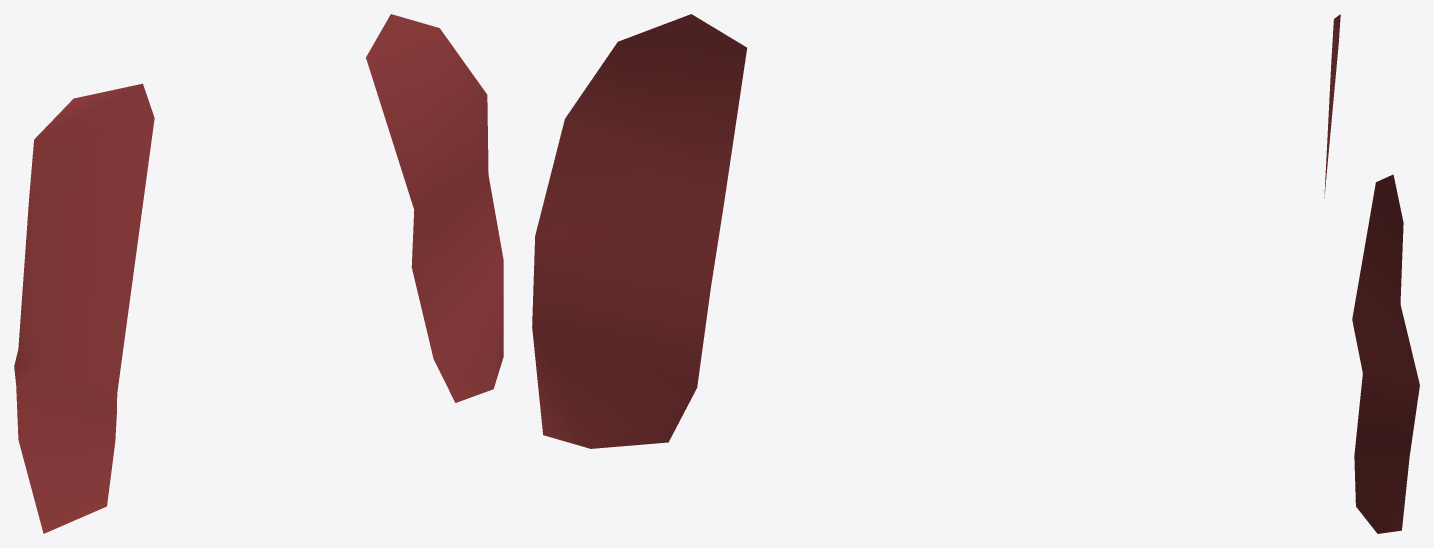
The model's file is flexor-digitorum-superficialis-e1l.glb.
3 renders of one model, left to right at view 1: azimuth 30°, elevation 25°; view 2: azimuth 150°, elevation 25°; view 3: azimuth 270°, elevation 25°, orthographic. The views are drawn at different scales.
Parts seen in each view (by area): view 1: Flexor digitorum superficialis.e1l; view 2: Flexor digitorum superficialis.e1l; view 3: Flexor digitorum superficialis.e1l.
Part boxes in pixels (x1,y1,x2,y2): Flexor digitorum superficialis.e1l: (14,14,503,533); Flexor digitorum superficialis.e1l: (532,14,746,448); Flexor digitorum superficialis.e1l: (1324,14,1419,533).
Bounding box in the file's own units: 0.00769 × 0.00566 × 0.00205.
